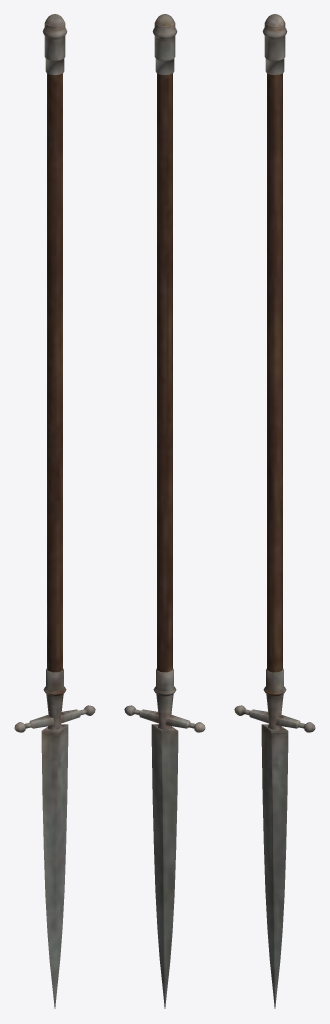
The model's file is weapon-wp_a_0902.glb.
The picture shows the model from 3 angles, left to right: view 1: azimuth 30°, elevation 25°; view 2: azimuth 150°, elevation 25°; view 3: azimuth 330°, elevation 25°; orthographic projection.
Parts seen in each view (by area): view 1: wp_a_0902_mesh; view 2: wp_a_0902_mesh; view 3: wp_a_0902_mesh.
Part boxes in pixels (x1=…): wp_a_0902_mesh: x1=14, y1=14, x2=95, y2=1008; wp_a_0902_mesh: x1=124, y1=14, x2=205, y2=1008; wp_a_0902_mesh: x1=234, y1=14, x2=315, y2=1008.
Bounding box in the file's own units: 0.1858 × 2.18 × 0.0488.
Materials: 2 (2 with a texture image).
